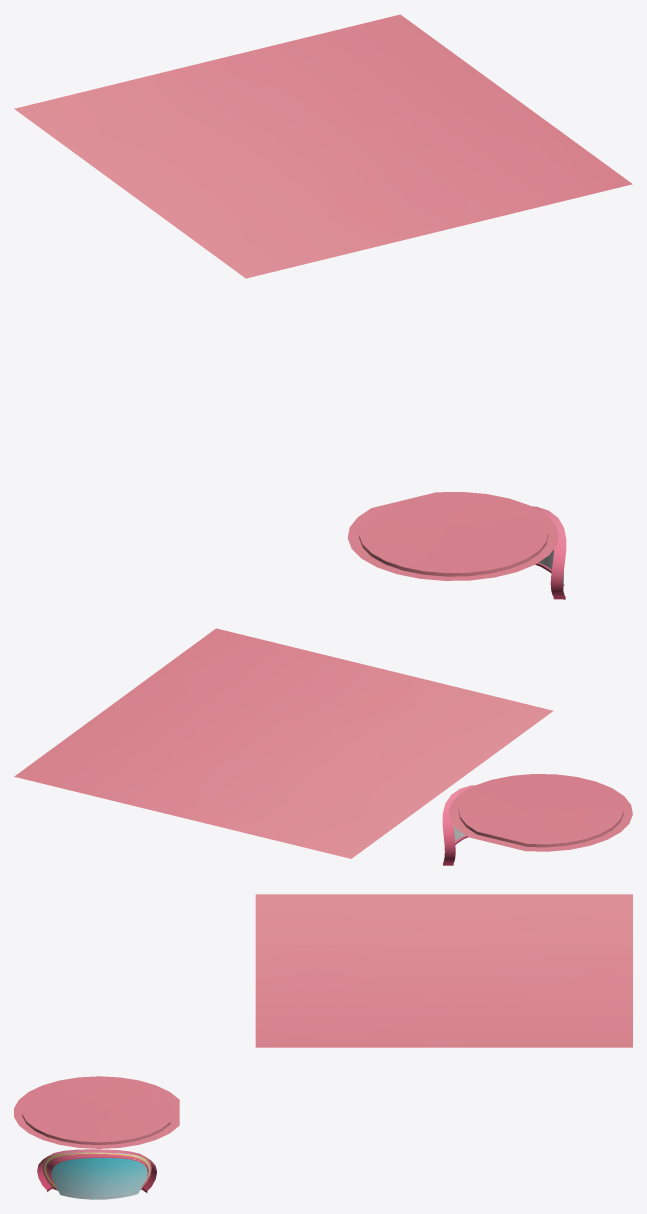
The model's file is Doll_Room_Celling_001.FBX.
3 renders of one model, top to bottom at view 1: azimuth 30°, elevation 25°; view 2: azimuth 150°, elevation 25°; view 3: azimuth 270°, elevation 25°, orthographic. The views are drawn at different scales.
Visible parts, largest first — view 1: Doll_Room_Celling_001; view 2: Doll_Room_Celling_001; view 3: Doll_Room_Celling_001, Doll_Room_Celling_001_3.
Boxes of the visible parts, <box> form: Doll_Room_Celling_001: <box>14,14,632,599</box>; Doll_Room_Celling_001: <box>14,628,632,865</box>; Doll_Room_Celling_001: <box>14,894,632,1197</box>; Doll_Room_Celling_001_3: <box>51,1158,147,1199</box>.
Size of the model in its own units: 474 by 320 by 808.
Materials: 2 (2 with a texture image).
